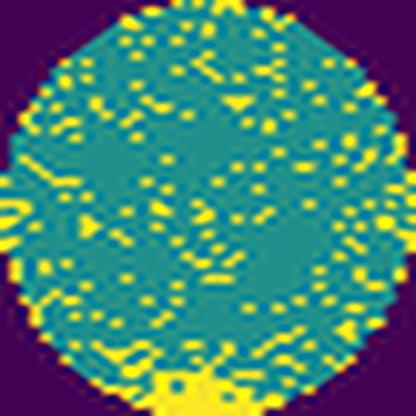Edge-Loc: (104, 353, 317, 416)
